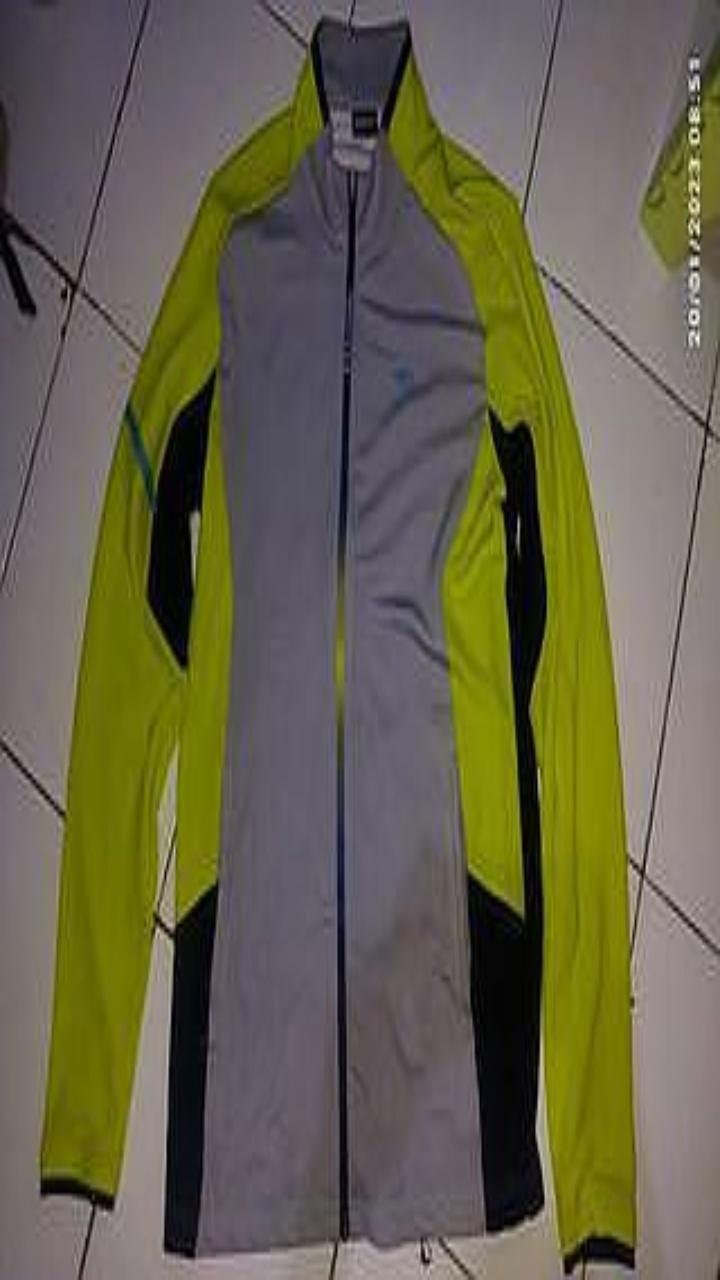Sports_Jacket: (41, 19, 634, 1271)
